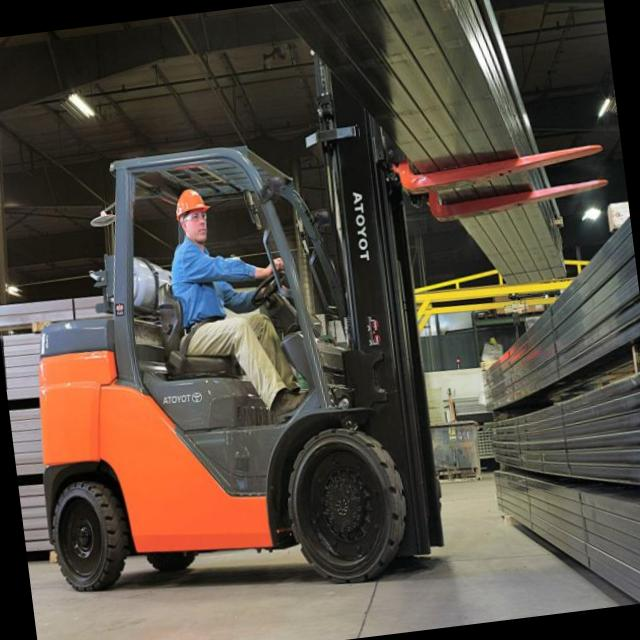driver: (156, 176, 299, 435)
forklift: (0, 30, 471, 640)
